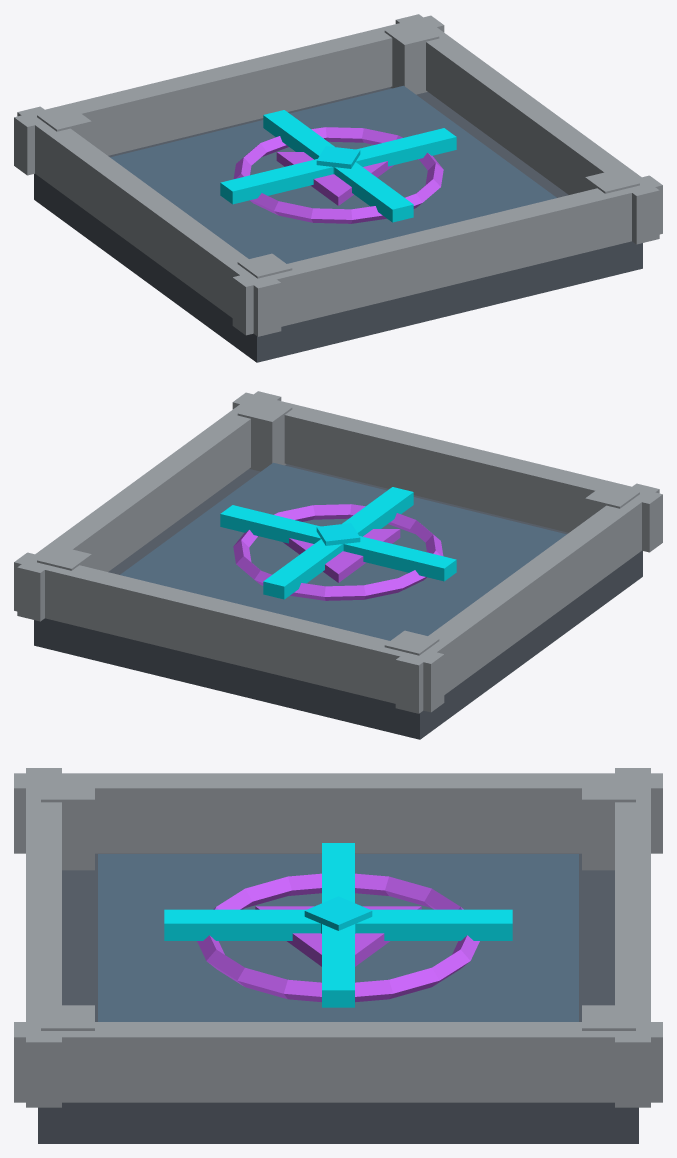
The model's file is TD_SpecialTile.fbx.
3 renders of one model, top to bottom at view 1: azimuth 30°, elevation 25°; view 2: azimuth 150°, elevation 25°; view 3: azimuth 270°, elevation 25°, orthographic. The views are drawn at different scales.
Visible parts, largest first — view 1: TD_SpecialTile_Surface, TD_SpecialTile_Rail_South, TD_SpecialTile_Rail_North, TD_SpecialTile_BasePlate, TD_SpecialTile_Rail_West, TD_SpecialTile_Rail_East, TD_SpecialTile_Flow_East, TD_SpecialTile_RuneCircle, TD_SpecialTile_Flow_North, TD_SpecialTile_Corner_NE, TD_SpecialTile_RuneTriangle, TD_SpecialTile_Corner_NW (+3 smaller); view 2: TD_SpecialTile_Surface, TD_SpecialTile_Rail_North, TD_SpecialTile_Rail_South, TD_SpecialTile_BasePlate, TD_SpecialTile_Rail_West, TD_SpecialTile_Rail_East, TD_SpecialTile_Flow_East, TD_SpecialTile_RuneCircle, TD_SpecialTile_Flow_North, TD_SpecialTile_Corner_SE, TD_SpecialTile_RuneTriangle, TD_SpecialTile_Corner_SW (+3 smaller); view 3: TD_SpecialTile_Surface, TD_SpecialTile_Rail_East, TD_SpecialTile_Rail_West, TD_SpecialTile_BasePlate, TD_SpecialTile_Rail_North, TD_SpecialTile_Rail_South, TD_SpecialTile_Flow_North, TD_SpecialTile_RuneCircle, TD_SpecialTile_Flow_East, TD_SpecialTile_Corner_NW, TD_SpecialTile_Corner_SW, TD_SpecialTile_RuneTriangle (+3 smaller).
Part boxes in pixels (box(x1,y1,x2,y2)): TD_SpecialTile_Surface: box(110, 85, 556, 263); TD_SpecialTile_Rail_South: box(232, 175, 662, 335); TD_SpecialTile_Rail_North: box(14, 15, 444, 175); TD_SpecialTile_BasePlate: box(34, 87, 642, 362); TD_SpecialTile_Rail_West: box(17, 106, 281, 336); TD_SpecialTile_Rail_East: box(395, 14, 659, 244); TD_SpecialTile_Flow_East: box(220, 128, 456, 204); TD_SpecialTile_RuneCircle: box(233, 127, 443, 223); TD_SpecialTile_Flow_North: box(263, 110, 413, 222); TD_SpecialTile_Corner_NE: box(384, 22, 439, 94); TD_SpecialTile_RuneTriangle: box(276, 152, 393, 205); TD_SpecialTile_Corner_NW: box(37, 106, 91, 143); TD_SpecialTile_Surface: box(120, 462, 566, 640); TD_SpecialTile_Rail_North: box(14, 552, 444, 712); TD_SpecialTile_Rail_South: box(232, 392, 662, 552); TD_SpecialTile_BasePlate: box(34, 464, 642, 739); TD_SpecialTile_Rail_West: box(395, 483, 659, 713); TD_SpecialTile_Rail_East: box(17, 391, 281, 621); TD_SpecialTile_Flow_East: box(220, 505, 456, 581); TD_SpecialTile_RuneCircle: box(233, 504, 443, 600); TD_SpecialTile_Flow_North: box(263, 487, 413, 599); TD_SpecialTile_Corner_SE: box(237, 399, 292, 471); TD_SpecialTile_RuneTriangle: box(283, 529, 400, 582); TD_SpecialTile_Corner_SW: box(585, 483, 639, 520); TD_SpecialTile_Surface: box(98, 854, 578, 1021); TD_SpecialTile_Rail_East: box(14, 1022, 662, 1102); TD_SpecialTile_Rail_West: box(14, 773, 662, 853); TD_SpecialTile_BasePlate: box(38, 853, 638, 1143); TD_SpecialTile_Rail_North: box(615, 768, 650, 1107); TD_SpecialTile_Rail_South: box(26, 768, 61, 1107); TD_SpecialTile_Flow_North: box(164, 909, 512, 940); TD_SpecialTile_RuneCircle: box(197, 873, 479, 1002); TD_SpecialTile_Flow_East: box(322, 843, 354, 1007); TD_SpecialTile_Corner_NW: box(582, 776, 635, 870); TD_SpecialTile_Corner_SW: box(41, 776, 94, 870); TD_SpecialTile_RuneTriangle: box(255, 906, 421, 966).
Bounding box in the file's own units: 108 × 21 × 108.
